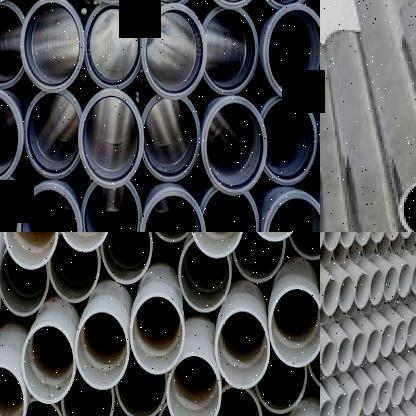pipe: (78, 88, 144, 189), (202, 95, 268, 196), (141, 3, 207, 100), (20, 0, 85, 93), (263, 3, 320, 101), (141, 94, 201, 182), (23, 90, 82, 179), (260, 96, 318, 186), (202, 7, 259, 95), (84, 3, 143, 88), (215, 308, 270, 390), (130, 294, 184, 375), (75, 310, 129, 390), (21, 324, 75, 404), (269, 286, 320, 368), (178, 240, 232, 314), (48, 232, 101, 302), (115, 348, 168, 416), (166, 353, 221, 416), (0, 247, 49, 317), (16, 182, 83, 232), (80, 181, 143, 232), (139, 189, 206, 232), (199, 185, 259, 232), (101, 232, 153, 285), (232, 232, 285, 283), (255, 364, 308, 414), (61, 366, 114, 416), (262, 190, 320, 232), (0, 1, 26, 88), (0, 88, 23, 186), (3, 232, 57, 269), (210, 385, 263, 416), (189, 232, 244, 258), (0, 365, 26, 416), (0, 178, 24, 232), (57, 232, 111, 253), (14, 398, 66, 416), (289, 232, 320, 260), (323, 278, 339, 316), (354, 272, 370, 308), (321, 340, 337, 376), (337, 337, 353, 372), (370, 270, 385, 306), (340, 275, 354, 312), (398, 262, 412, 298), (393, 320, 408, 353), (384, 266, 398, 301), (362, 384, 377, 416), (352, 332, 366, 366), (380, 324, 394, 357), (366, 330, 380, 362), (391, 374, 404, 408), (348, 388, 363, 416), (378, 380, 390, 411), (332, 243, 348, 266), (404, 370, 416, 400), (360, 238, 376, 260), (347, 240, 362, 262), (334, 393, 348, 416), (375, 236, 391, 256), (389, 232, 403, 254), (323, 232, 340, 250), (402, 232, 416, 253), (407, 316, 416, 347), (320, 243, 332, 266), (340, 232, 357, 247), (320, 400, 334, 416), (356, 232, 371, 245), (411, 260, 416, 293), (371, 232, 386, 242), (386, 232, 401, 241)
